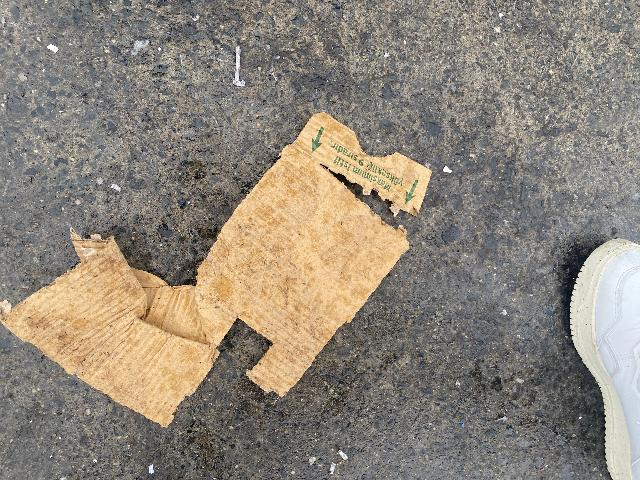Kagit: (230, 105, 433, 394), (8, 229, 225, 427)
